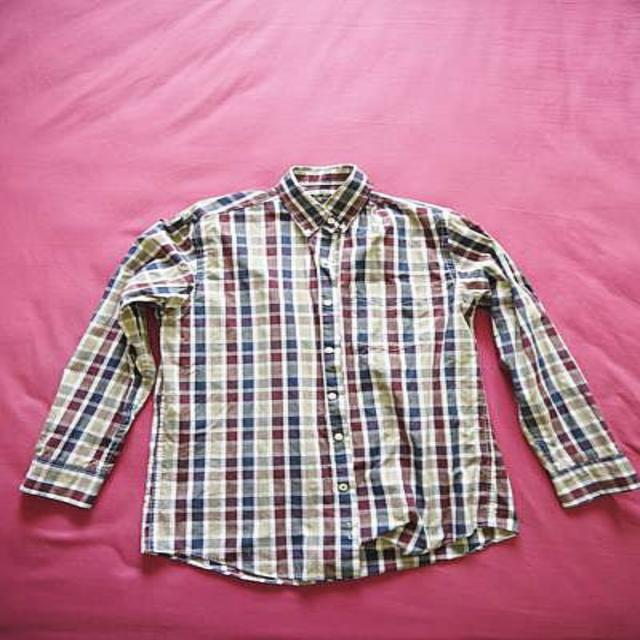SHIRT: (12, 154, 640, 593)
